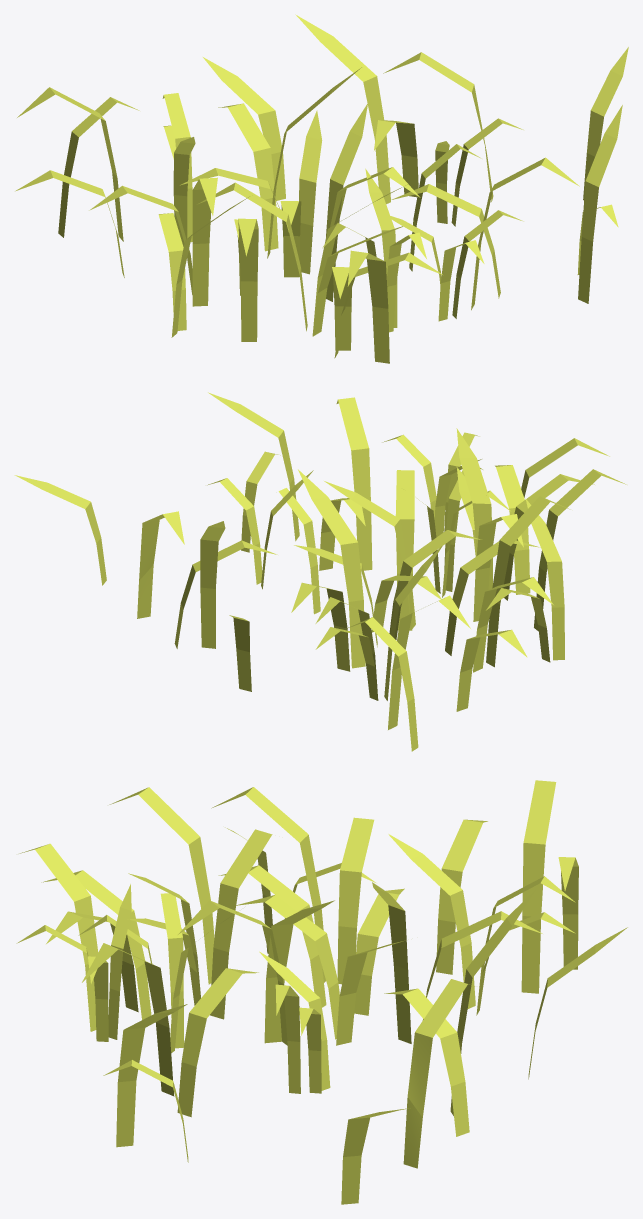
The model's file is SM_Grass_B.fbx.
3 renders of one model, top to bottom at view 1: azimuth 30°, elevation 25°; view 2: azimuth 150°, elevation 25°; view 3: azimuth 270°, elevation 25°, orthographic. The views are drawn at different scales.
Visible parts, largest first — view 1: SM_Grass_B; view 2: SM_Grass_B; view 3: SM_Grass_B.
Part boxes in pixels (x1,y1,x2,y2): SM_Grass_B: [15, 14, 628, 363]; SM_Grass_B: [14, 392, 626, 751]; SM_Grass_B: [16, 780, 627, 1204].
Size of the model in its own units: 87.54 by 26.31 by 71.41.
